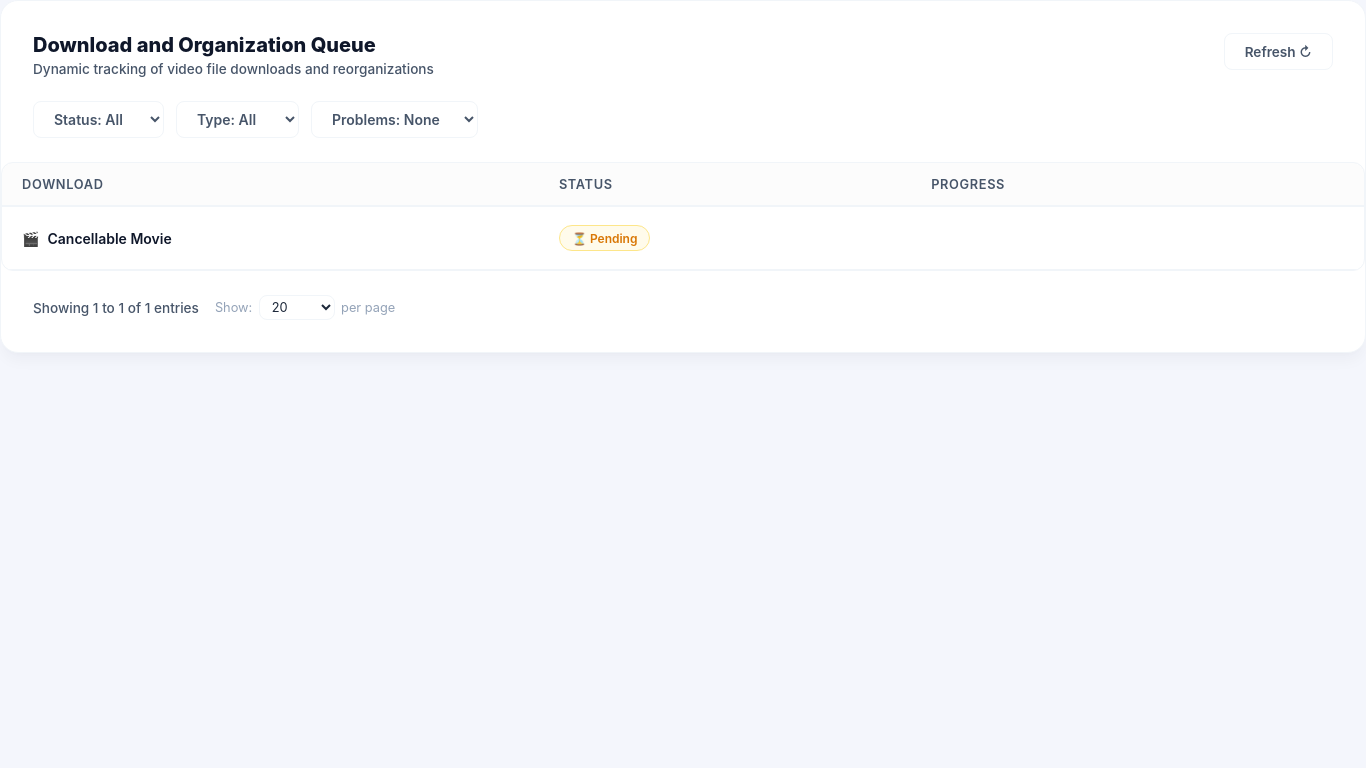
DownloadsTab sidepanel › shows the Cancel action in the drawer for a pending download
What coordinates should you click on to do the following:
click the text "🎬Cancellable Movie"
I would click on:
 (270, 239)
Its box is 2,207 -> 539,270.
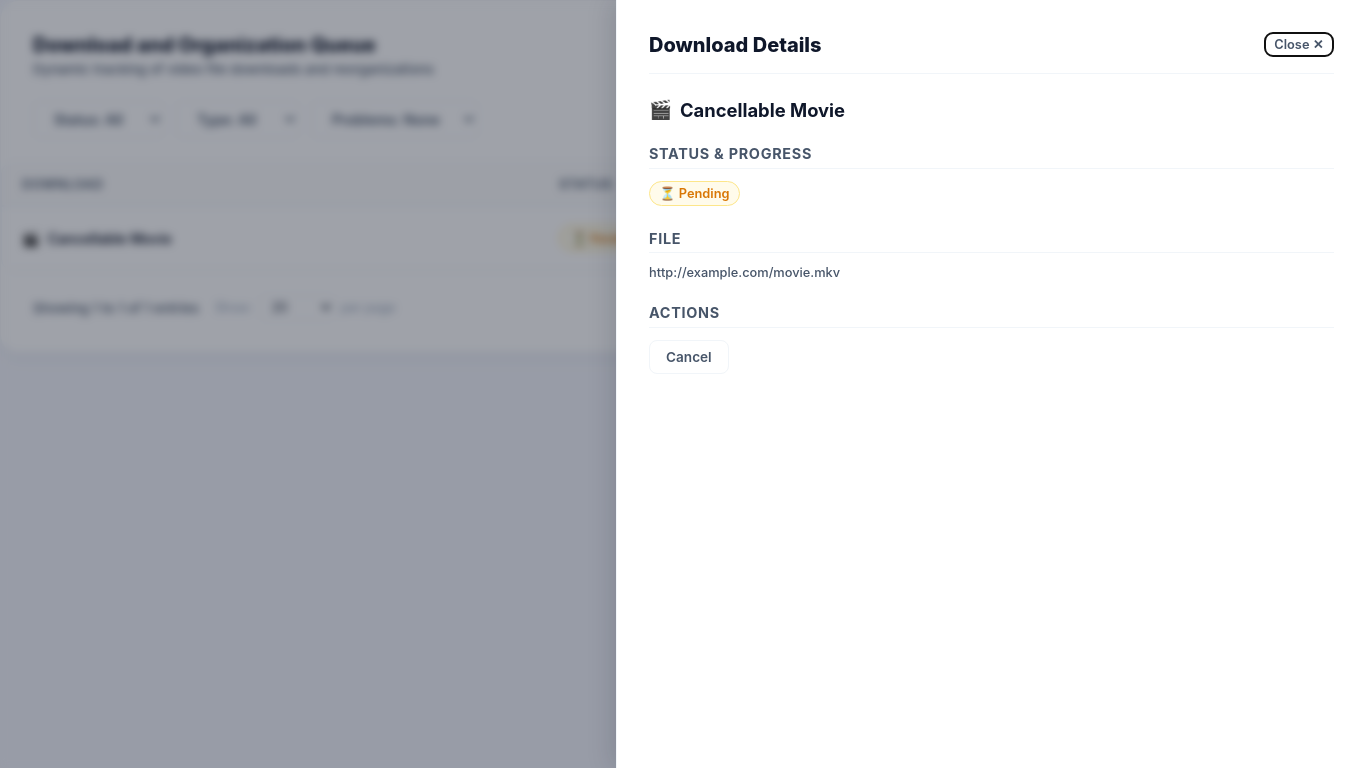
Result: the button "Cancel" is shown at 649,340 -> 729,374
